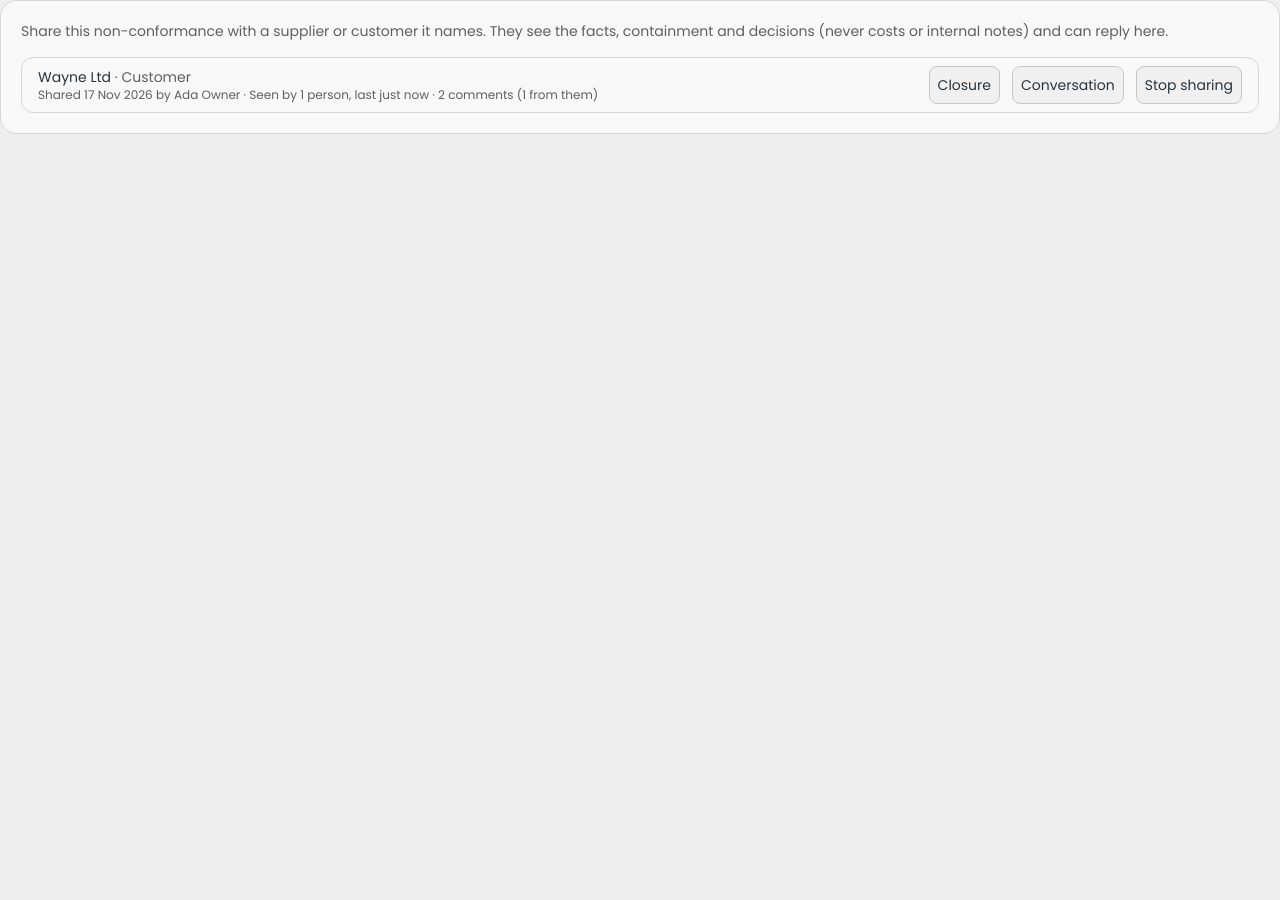
Test case: closure confirmation on a customer's share (PT5b) › asks the customer, with a message, and says it changes nothing internal
Later steps or results of the test are not shown.
Click the button with aria-label "Closure confirmation from Wayne Ltd" at (964, 85), box left=929, top=66, right=1000, bottom=104
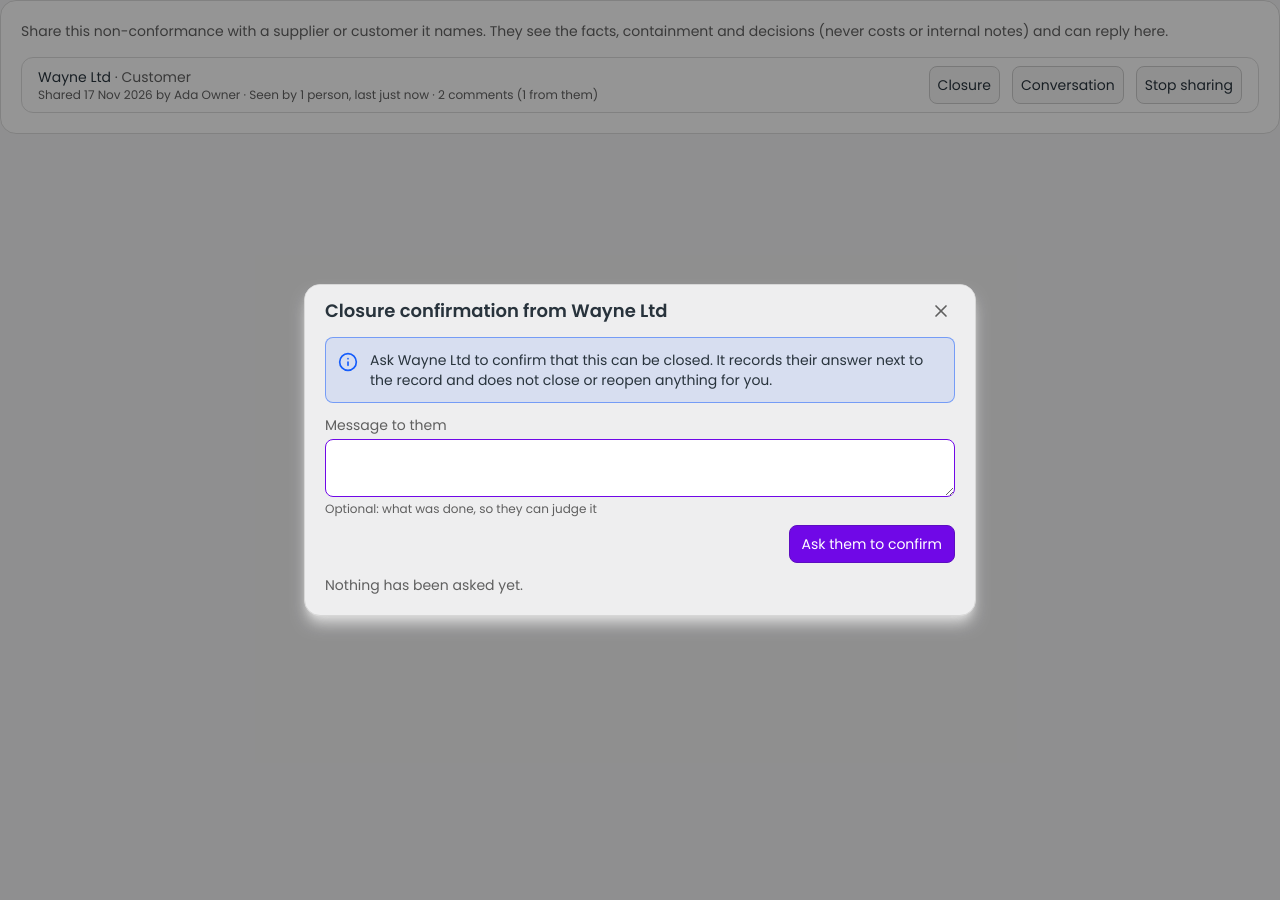
Check: the text "does not close or reopen anything" is shown, box left=370, top=350, right=923, bottom=390
